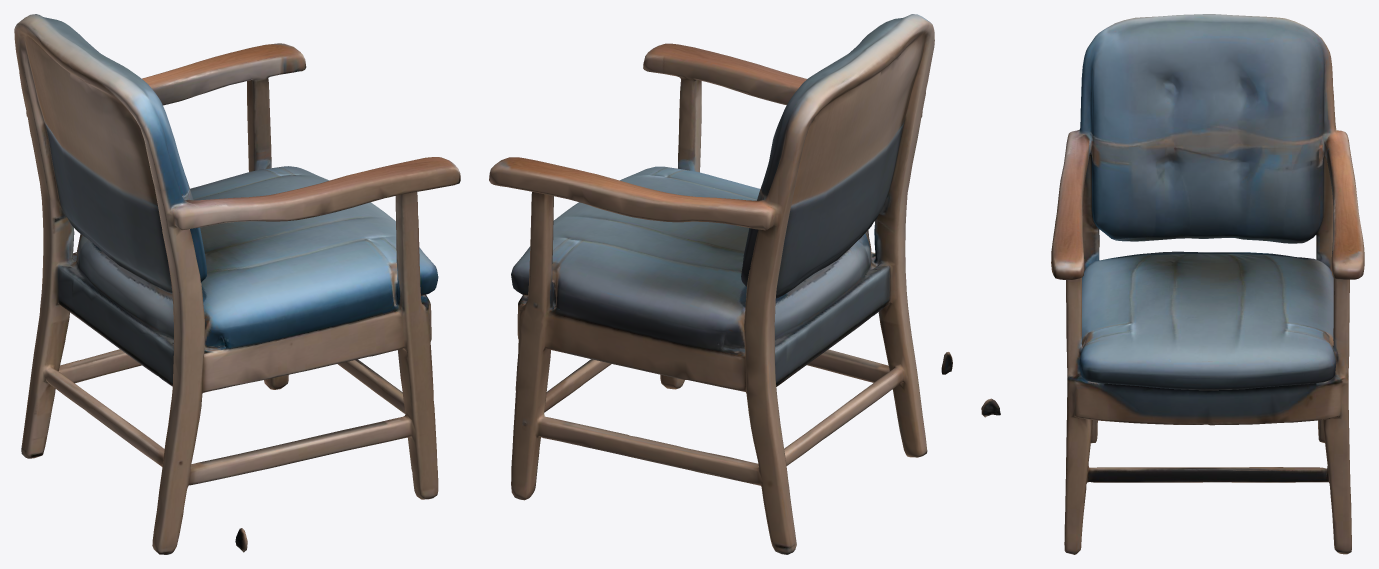
The picture shows the model from 3 angles, left to right: view 1: azimuth 30°, elevation 25°; view 2: azimuth 150°, elevation 25°; view 3: azimuth 270°, elevation 25°; orthographic projection. The views are drawn at different scales.
Visible parts, largest first — view 1: Mesh1.0; view 2: Mesh1.0; view 3: Mesh1.0.
Part boxes in pixels (box(x1,y1,x2,y2)): Mesh1.0: box(14, 14, 460, 554); Mesh1.0: box(489, 14, 952, 554); Mesh1.0: box(981, 14, 1364, 554).
Size of the model in its own units: 147 by 200 by 166.
1 material, 1 textured.
